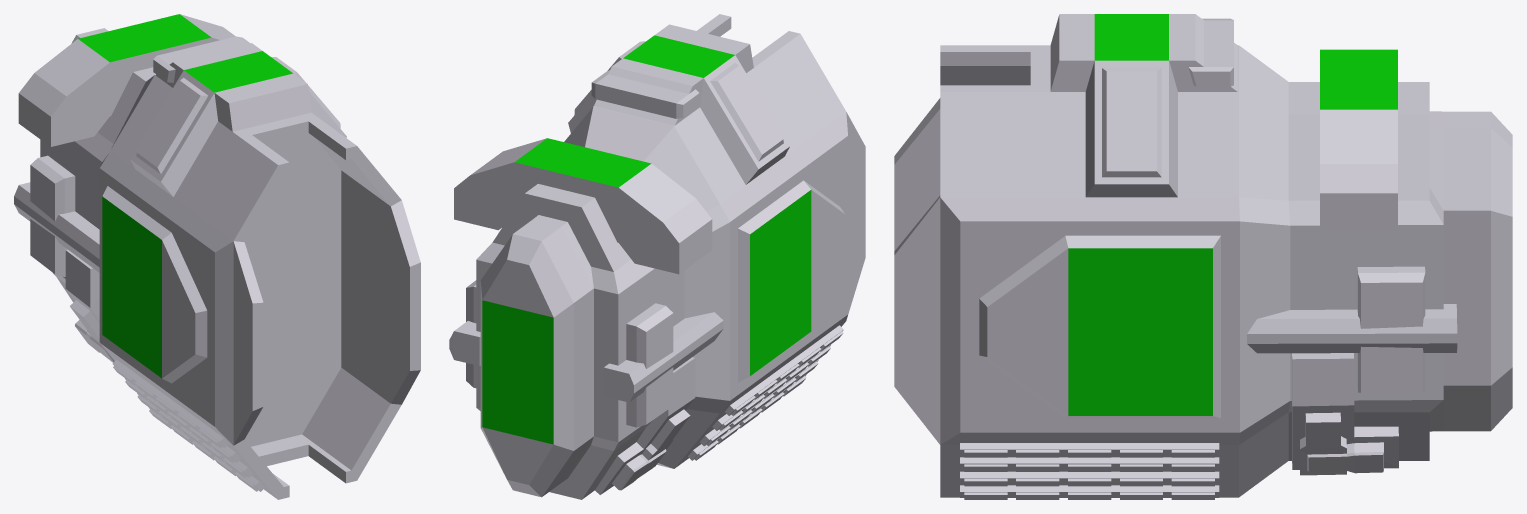
The model's file is part.bodysplit.fbx.
3 views of the same model, side by side, from view 1: azimuth 30°, elevation 25°; view 2: azimuth 150°, elevation 25°; view 3: azimuth 270°, elevation 25° (orthographic). The views are drawn at different scales.
Parts seen in each view (by area): view 1: part.bodysplit; view 2: part.bodysplit; view 3: part.bodysplit.
Part boxes in pixels (x1=…): part.bodysplit: x1=14, y1=14, x2=420, y2=499; part.bodysplit: x1=449, y1=14, x2=865, y2=499; part.bodysplit: x1=894, y1=14, x2=1512, y2=499.
Bounding box in the file's own units: 1.99 × 3.11 × 3.99.
